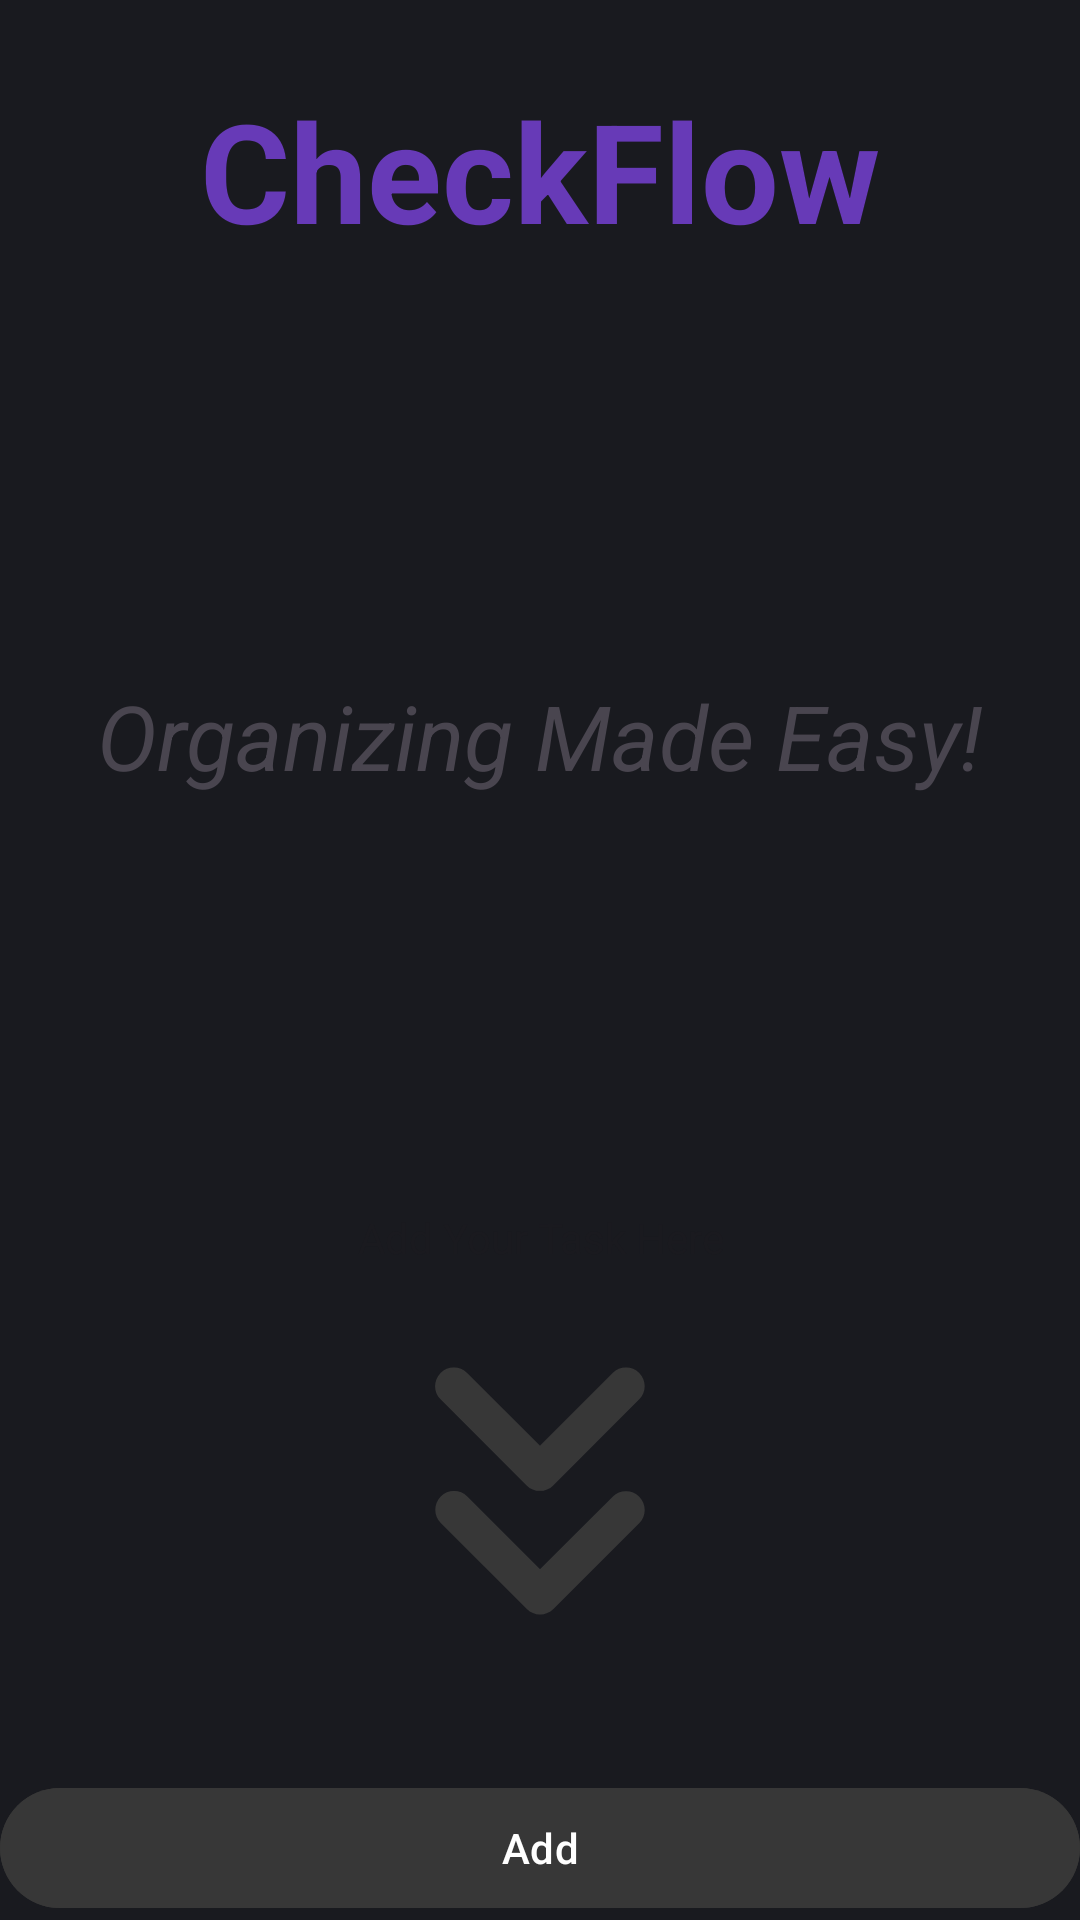

Icons on this 1080px×1920px Android screen, each with the point to tap as (x,y):
arrowdown: (539,1491)
